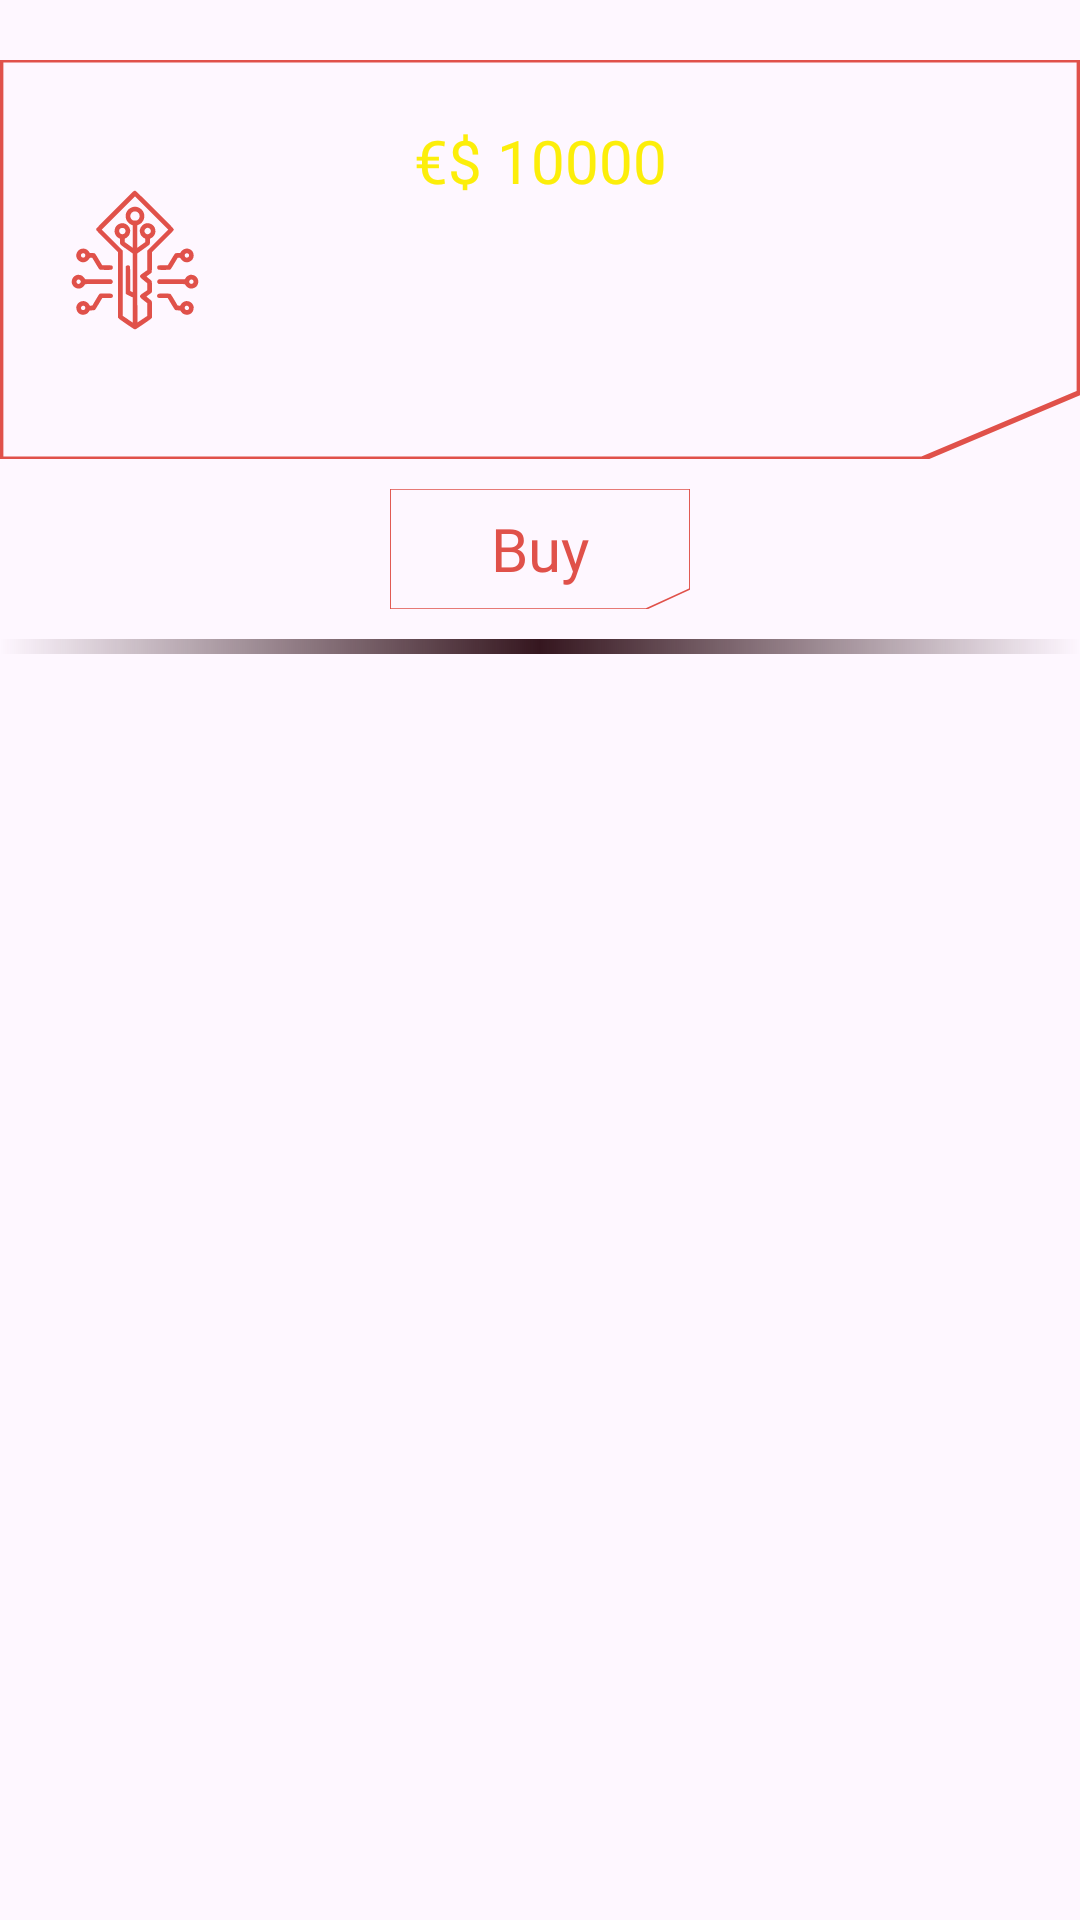

Locate icon controls on the screen. Image size 1080w x 1920h, boxes as [left=x1, top=y1, right=x2, bottom=y2].
biochip: [left=71, top=190, right=199, bottom=330]
